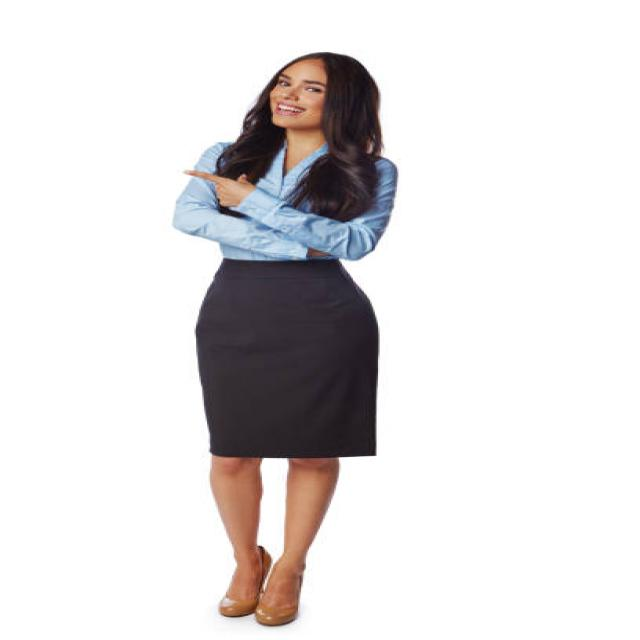Edited images: (146, 38, 435, 634)
